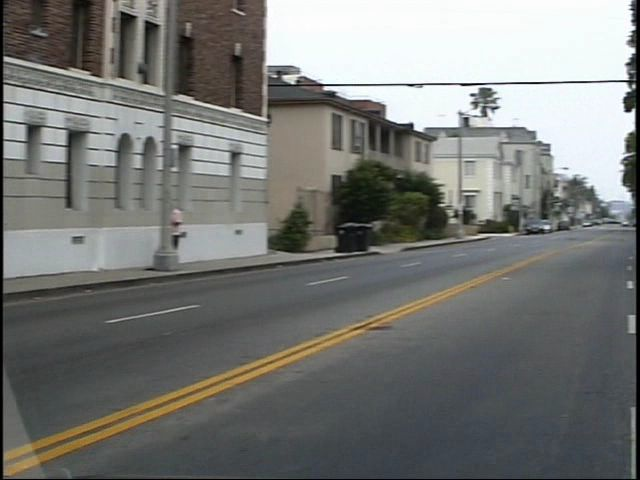person: (174, 192, 209, 267)
